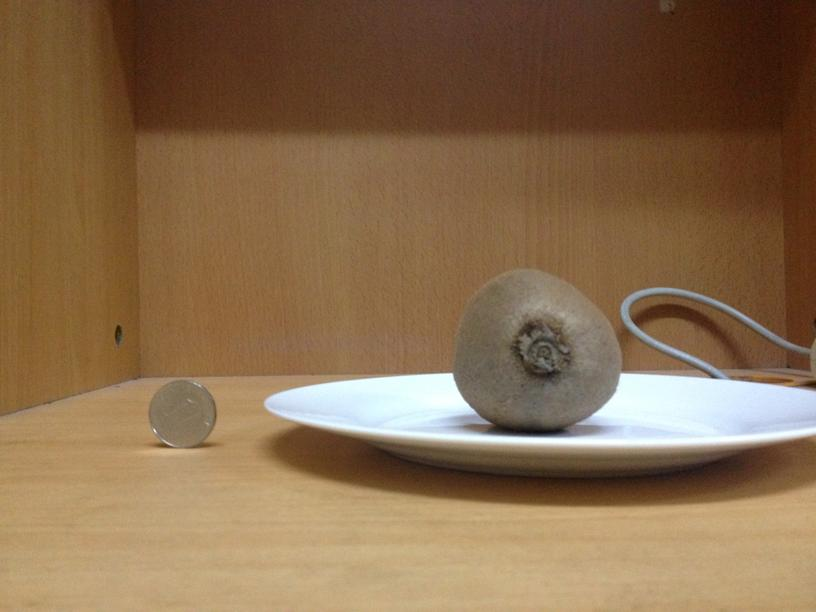coin: (147, 377, 219, 450)
qiwi: (459, 270, 622, 431)
